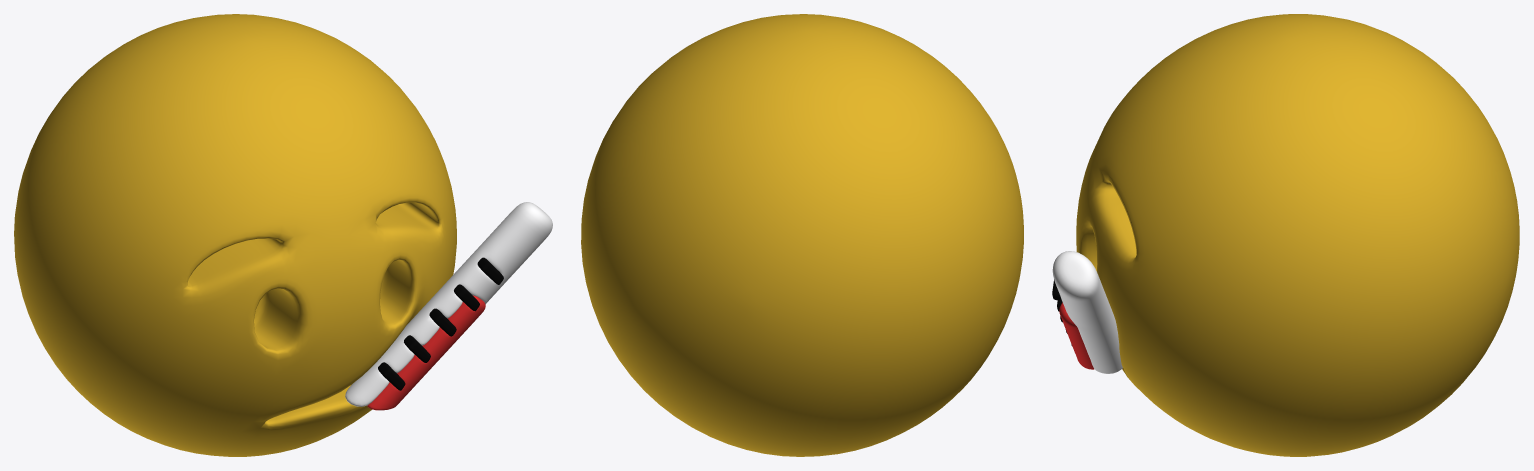
Rendered from thermomether.glb.
3 views of the same model, side by side, from view 1: azimuth 30°, elevation 25°; view 2: azimuth 150°, elevation 25°; view 3: azimuth 270°, elevation 25° (orthographic).
Parts seen in each view (by area): view 1: Group9951, Group15222, Group55287; view 2: Group9951; view 3: Group9951, Group15222, Group55287.
Boxes of the visible parts, bbox=[...] form: Group9951: bbox=[14, 14, 456, 456]; Group15222: bbox=[345, 202, 552, 406]; Group55287: bbox=[367, 295, 485, 410]; Group9951: bbox=[581, 14, 1023, 456]; Group9951: bbox=[1076, 14, 1519, 456]; Group15222: bbox=[1052, 251, 1122, 373]; Group55287: bbox=[1059, 302, 1094, 369].
Bounding box in the file's own units: 0.6287 × 0.6085 × 0.6414.
